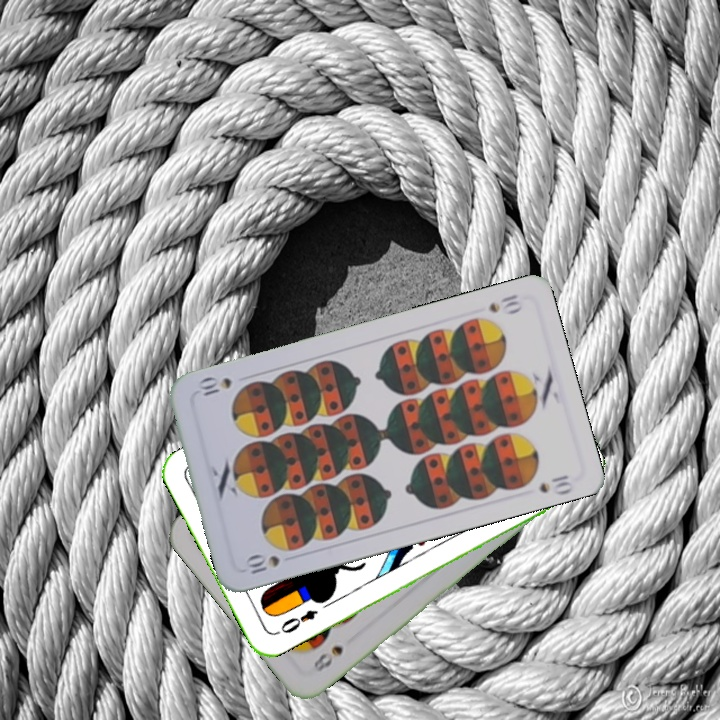EO: (276, 605, 321, 636)
S10: (241, 550, 282, 577), (484, 290, 525, 317)
S8: (308, 641, 346, 675)
